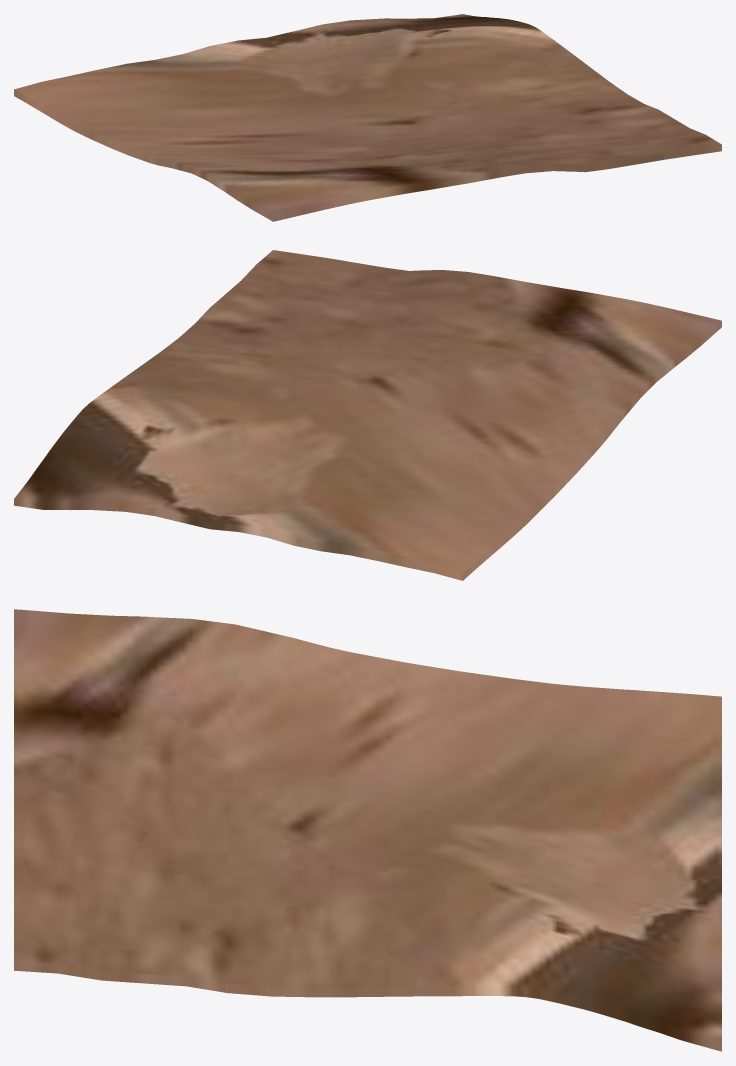
The picture shows the model from 3 angles, top to bottom: view 1: azimuth 30°, elevation 25°; view 2: azimuth 150°, elevation 25°; view 3: azimuth 270°, elevation 25°; orthographic projection. The views are drawn at different scales.
Size of the model in its own units: 0.5 by 0.1116 by 0.5.
1 material, 1 textured.
